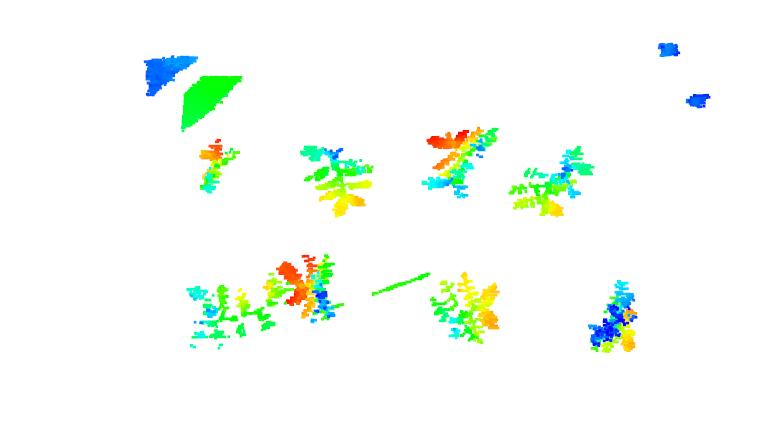chickpea: (506, 141, 593, 220), (417, 123, 498, 202), (297, 139, 375, 220), (185, 281, 276, 349), (432, 269, 501, 345), (275, 250, 340, 323), (586, 277, 644, 354), (196, 135, 237, 194)
